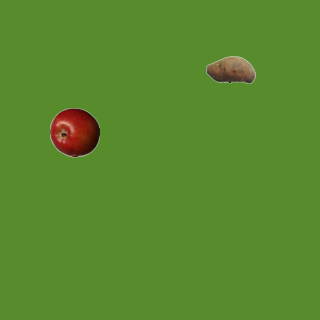Apple Braeburn: (49, 107, 99, 157)
Potato Sweet: (205, 44, 255, 94)
